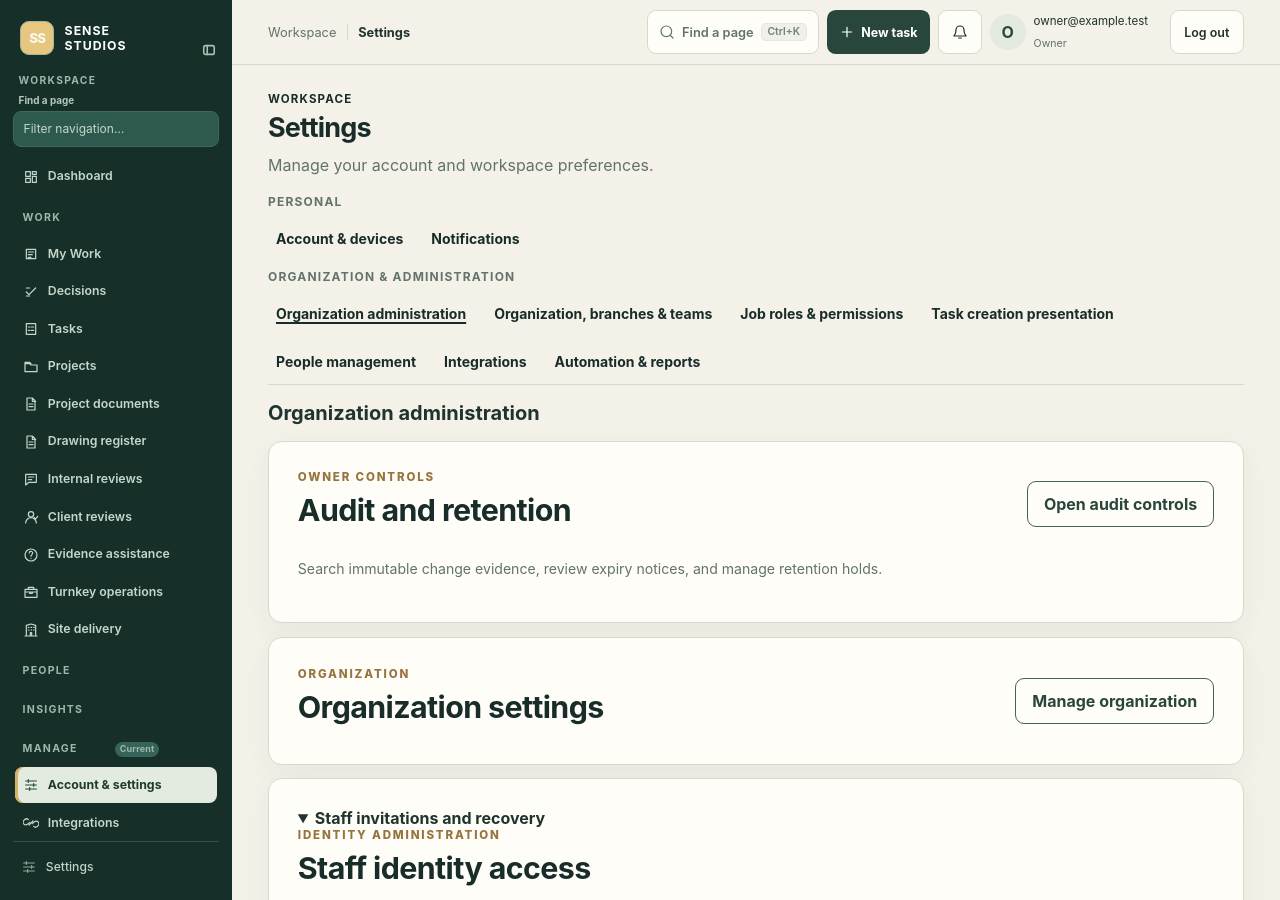
Scenario: identity authentication shell › does not offer organization creation after an unsuccessful setup read (403)
The width and height of the screenshot is (1280, 900).
What coordinates should you click on to do the following:
click the button "Manage organization"
I would click on:
 (1115, 701)
Its box is [1015, 678, 1214, 724].
(page scrolled)
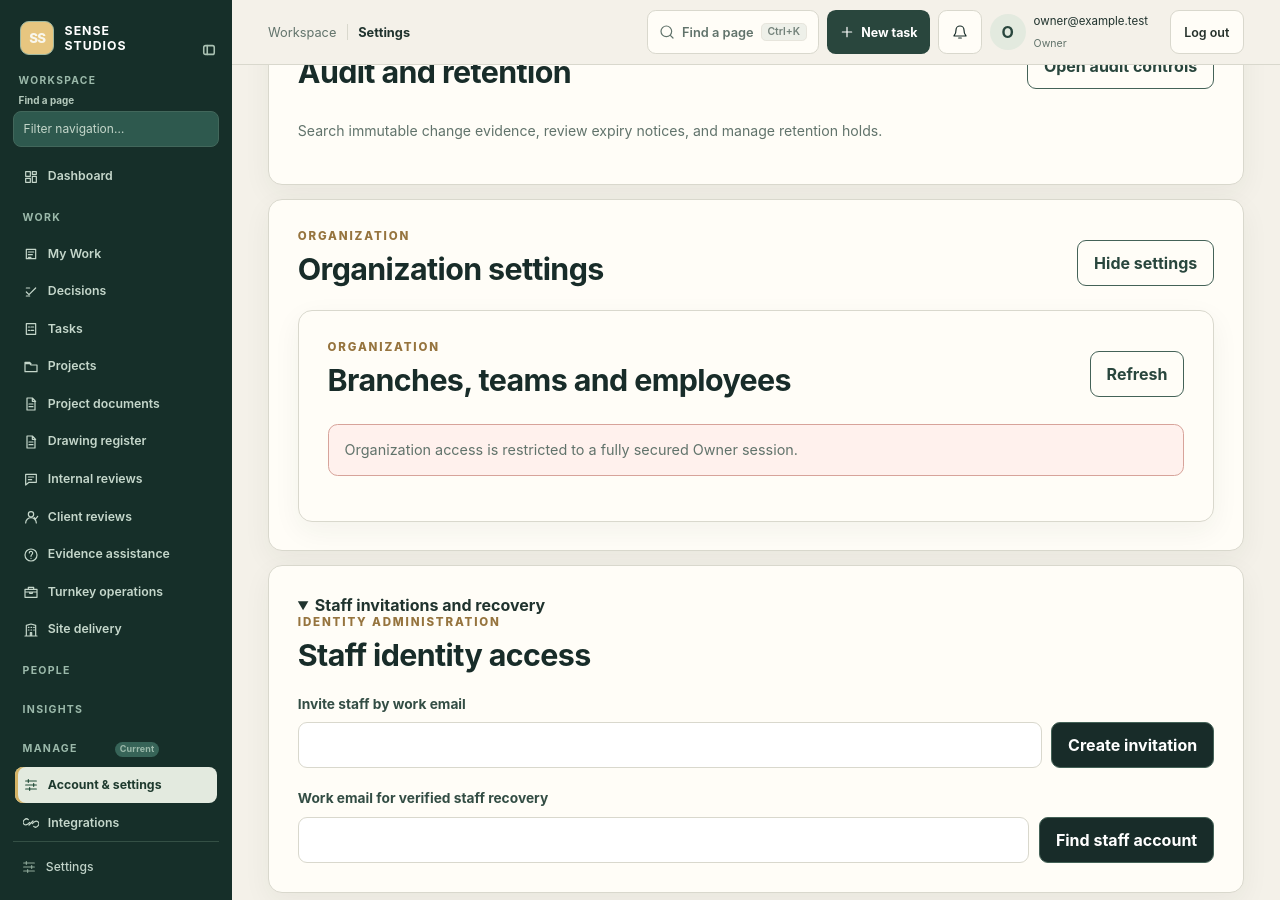
Result: the message shows "Organization access is restricted" at [345, 441, 798, 458]
